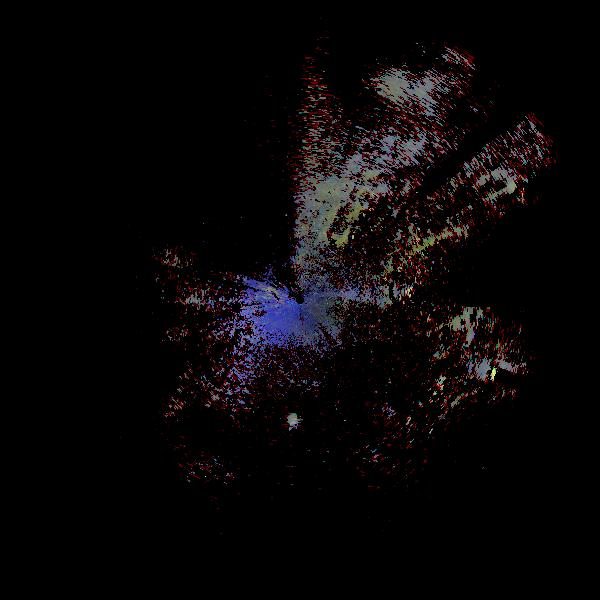roost: (288, 416, 300, 428)
